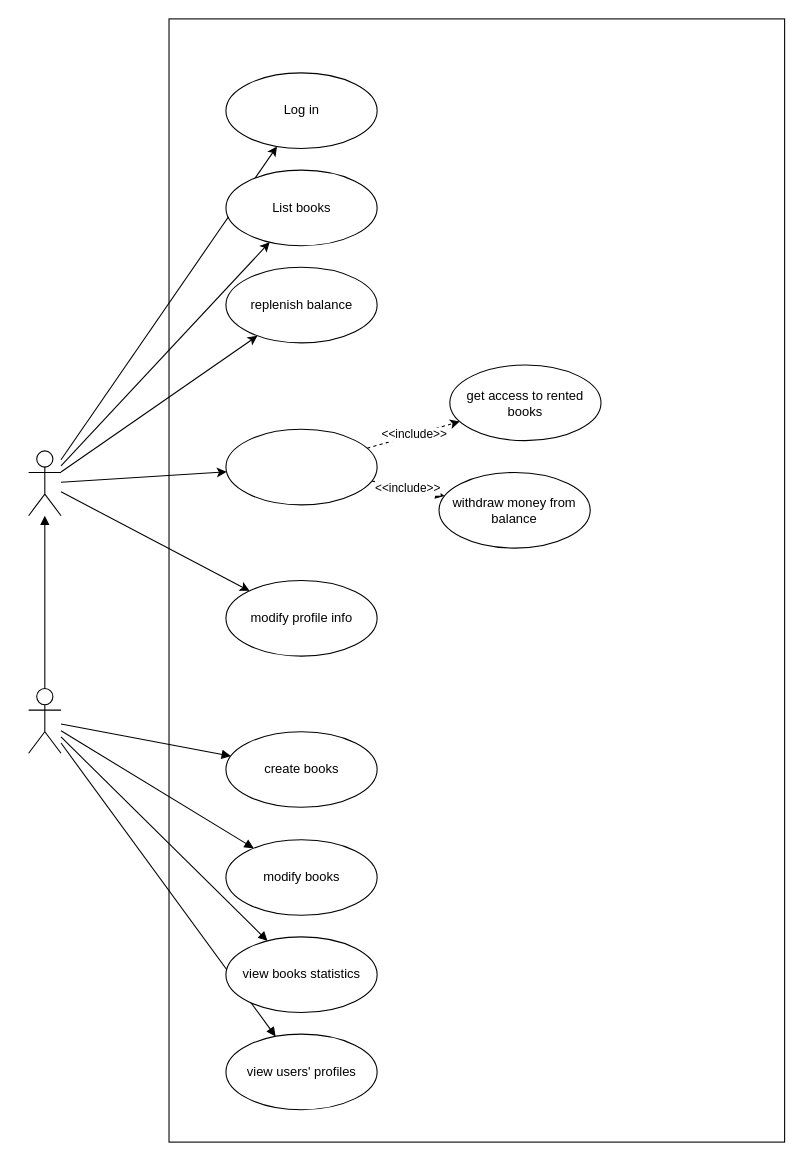
The diagram is 804 pixels wide and 1161 high, and some of its shapes have lost their labels. Here are the shapes that lost their labels. From the top down, the centre of each, then its label:
[44,483]: customer
[301,466]: rent books
[44,720]: admin
